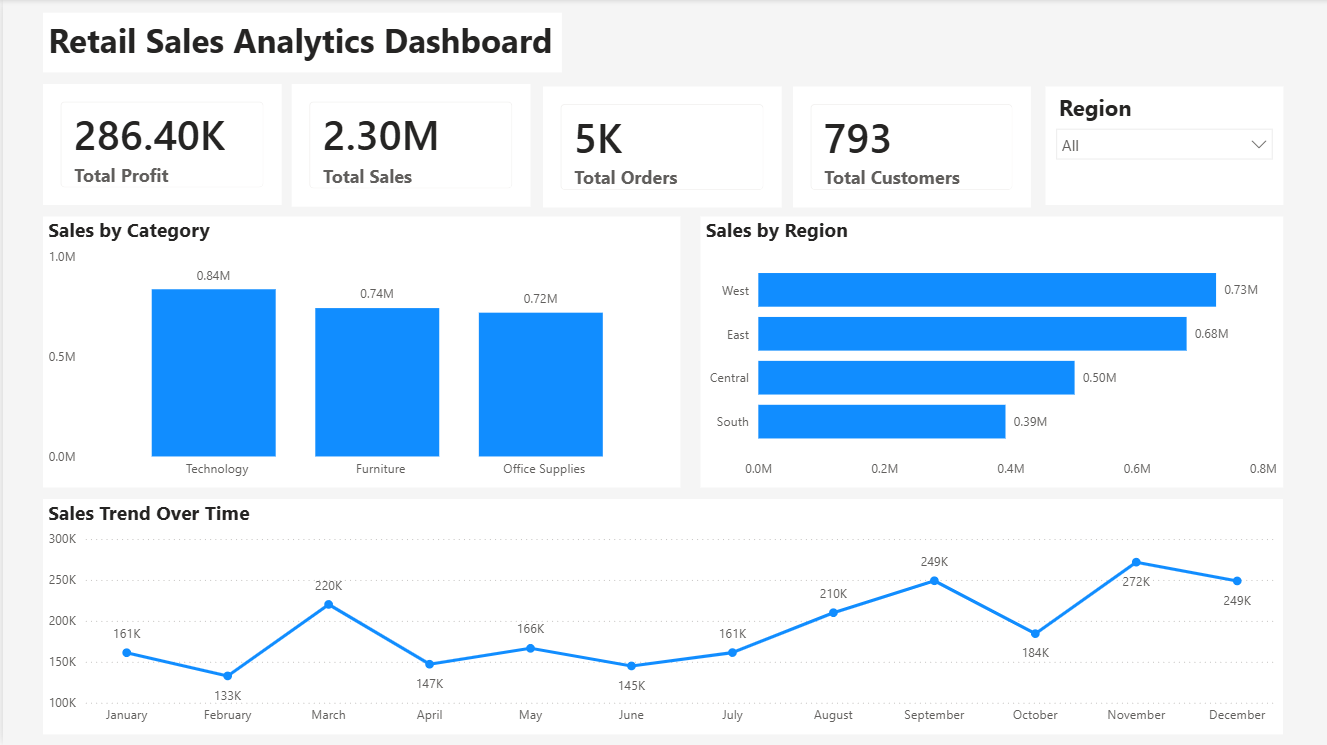

This screenshot's page, from the dashboard's own definition file:
{"tool":"powerbi","page":{"name":"Executive Dashboard","canvas":[1280,720],"ordinal":0},"visuals":[{"type":"cardVisual","fields":{"Data":["Sum(Sample - Superstore.Sales)"]},"box":[278.7,82,230.4,118.2],"z":0},{"type":"cardVisual","fields":{"Data":["Sum(Sample - Superstore.Profit)"]},"box":[38.6,82,230.4,117],"z":1000},{"type":"cardVisual","fields":{"Data":["Sample - Superstore.Total Orders"]},"box":[521.2,84.5,230.4,117],"z":2000},{"type":"cardVisual","fields":{"Data":["Sample - Superstore.Total Customers"]},"box":[762.5,84.5,229.2,117],"z":3000},{"type":"clusteredColumnChart","title":"Sales by Category","fields":{"Category":["Sample - Superstore.Category"],"Y":["Sum(Sample - Superstore.Sales)"]},"box":[38.6,209.9,615.3,261.8],"z":4000},{"type":"clusteredBarChart","title":"Sales by Region","fields":{"Category":["Sample - Superstore.Region"],"Y":["Sum(Sample - Superstore.Sales)"]},"box":[673.2,209.9,562.2,261.8],"z":5000},{"type":"lineChart","title":"Sales Trend Over Time","fields":{"Y":["Sum(Sample - Superstore.Sales)"],"Category":["Sample - Superstore.Order Date.Variation.Date Hierarchy.Month"]},"box":[38.6,482.6,1196.8,226.8],"z":6000},{"type":"slicer","fields":{"Values":["Sample - Superstore.Region"]},"box":[1006.2,84.5,229.2,114.6],"z":7000},{"type":"textbox","box":[38.6,13.3,500.7,57.9],"z":8000}]}

Visuals, with their boxes in screenshot pixels (x1, y1, x2, y2), scaled from the page's 1280x720 canvas onto the 1327x745 screenshot:
cardVisual - Sum(Sample - Superstore.Sales): (289, 85, 528, 207)
cardVisual - Sum(Sample - Superstore.Profit): (40, 85, 279, 206)
cardVisual - Sample - Superstore.Total Orders: (540, 87, 779, 208)
cardVisual - Sample - Superstore.Total Customers: (790, 87, 1028, 208)
"Sales by Category" clusteredColumnChart: (40, 217, 678, 488)
"Sales by Region" clusteredBarChart: (698, 217, 1281, 488)
"Sales Trend Over Time" lineChart: (40, 499, 1281, 734)
slicer - Sample - Superstore.Region: (1043, 87, 1281, 206)
textbox: (40, 14, 559, 74)
